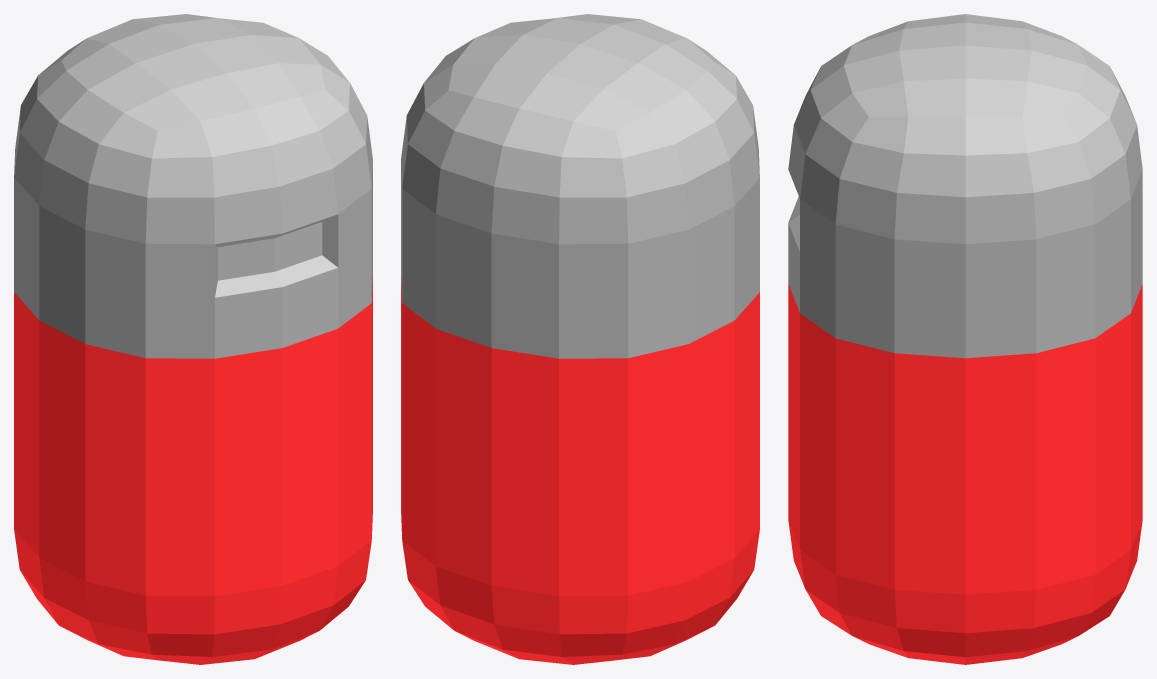
Rendered from Player2.fbx.
3 renders of one model, left to right at view 1: azimuth 30°, elevation 25°; view 2: azimuth 150°, elevation 25°; view 3: azimuth 270°, elevation 25°, orthographic.
Visible parts, largest first — view 1: Cube.001; view 2: Cube.001; view 3: Cube.001.
Boxes of the visible parts, left/top/right/bottom form: Cube.001: left=14, top=14, right=372, bottom=664; Cube.001: left=401, top=14, right=759, bottom=664; Cube.001: left=788, top=14, right=1142, bottom=664.
Bounding box in the file's own units: 93.75 × 171 × 93.75.
